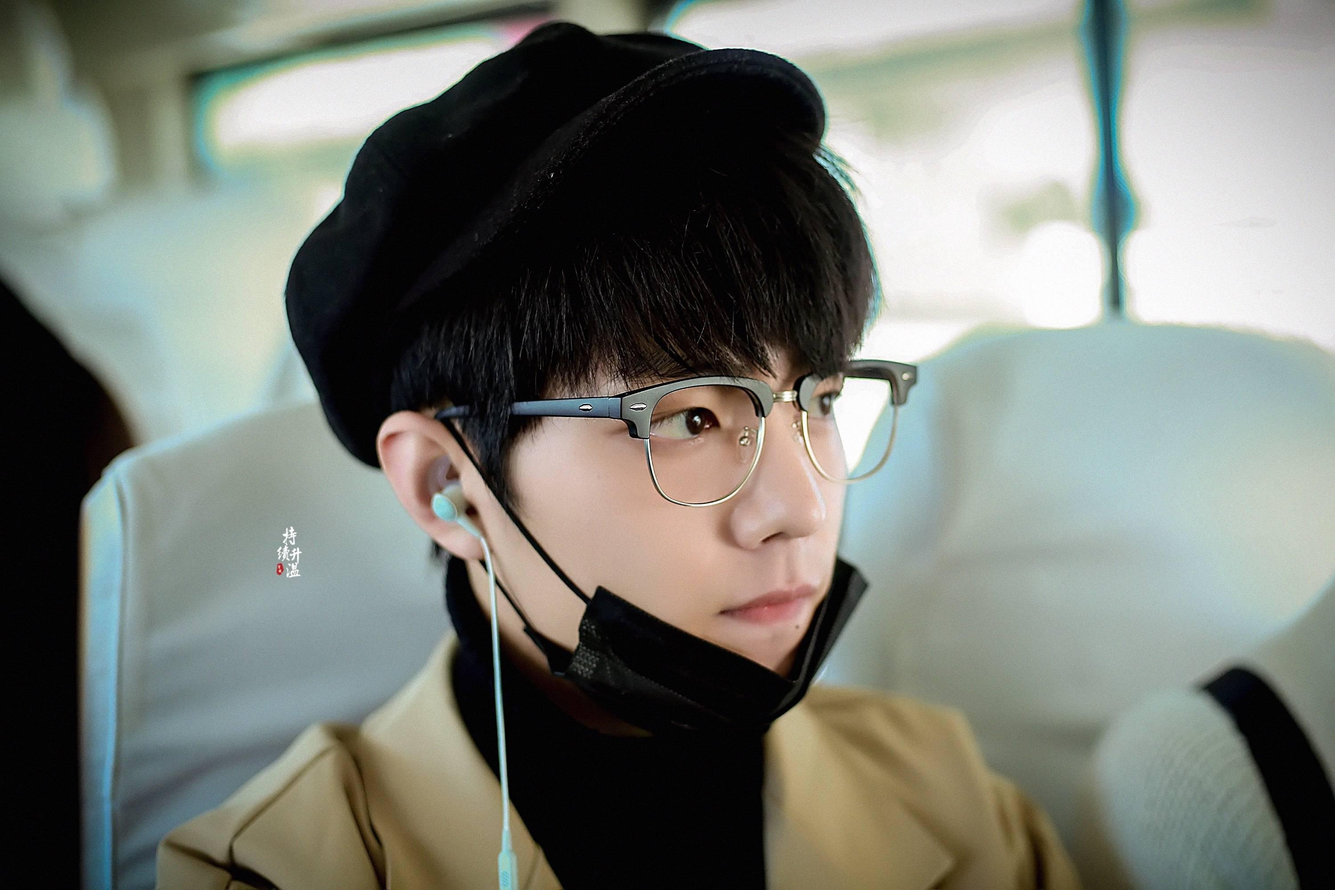WRONG: (515, 295, 858, 711)
